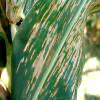Corn Gray leaf spot: (16, 0, 98, 99)
